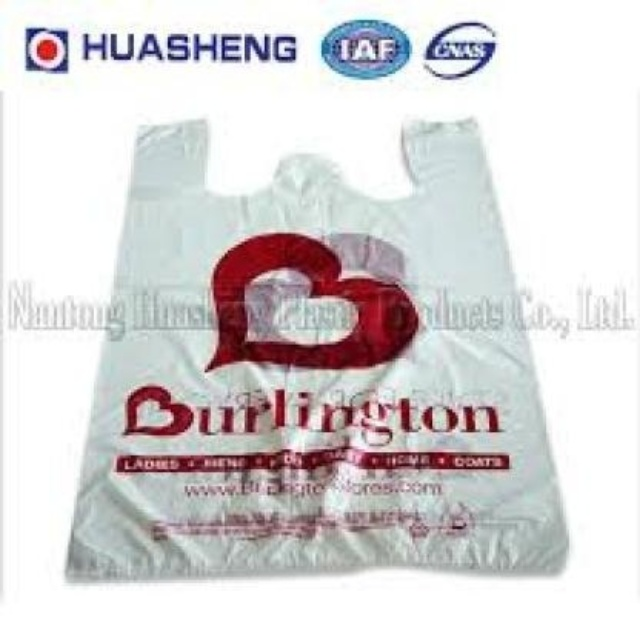trash: (69, 120, 565, 578)
